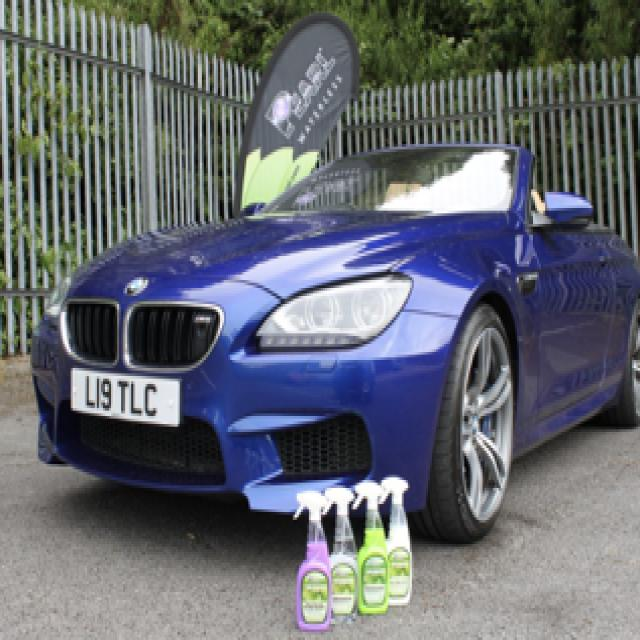license_plate: (66, 368, 182, 429)
